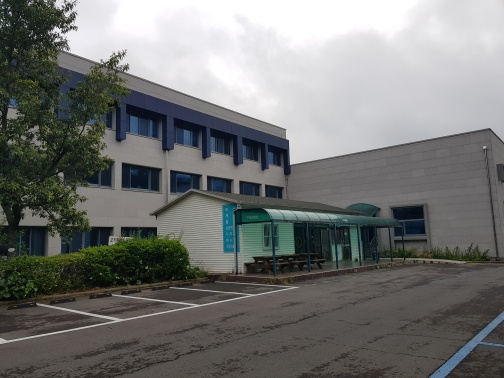College of Social Sciences: (62, 51, 500, 264), (146, 177, 411, 282)
